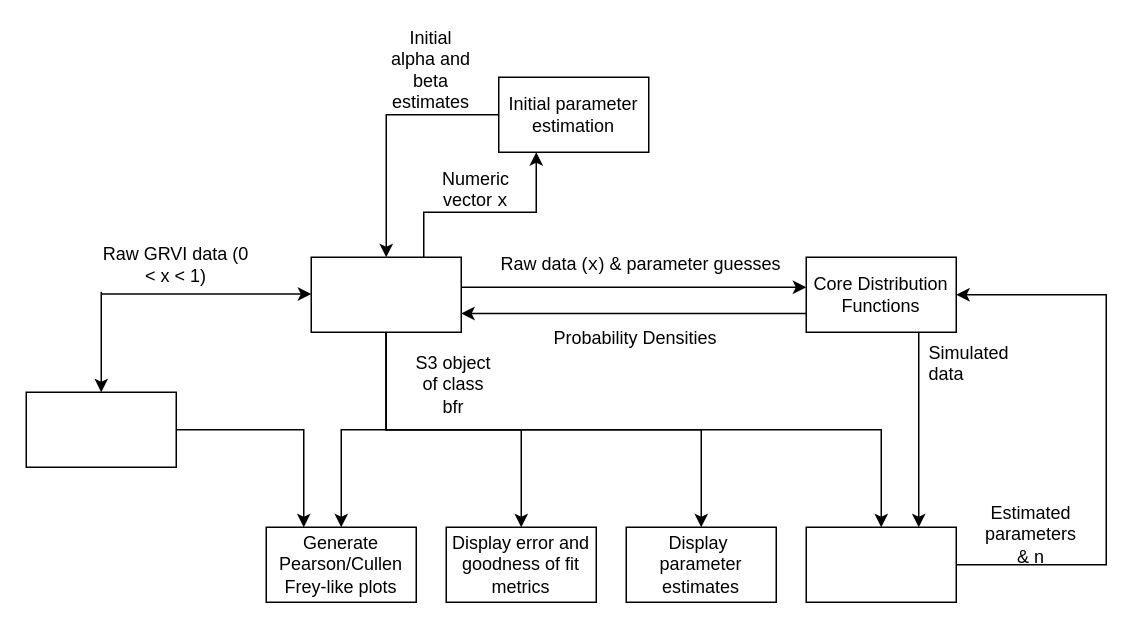
The diagram is 1145 pixels wide and 629 high, and some of its shapes have lost their labels. Here are the shapes that lost their labels. From the top down, the centre of each, then its label:
At point (385, 294): "Fit data".
At point (100, 429): "Summary Statistics".
At point (880, 564): "Simulate new observations".
